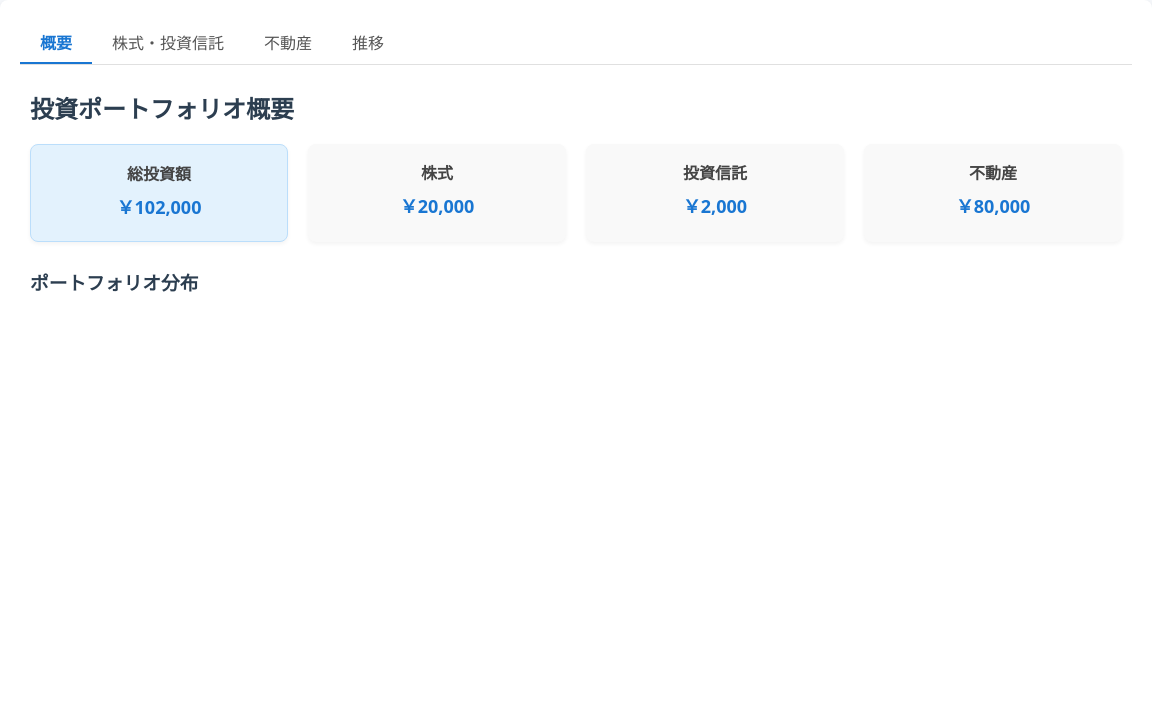
Test: InvestmentView › 株式・投資信託データがある場合に正しく表示される
Note: 「株式・投資信託」タブをクリック
Click the button "株式・投資信託" at coordinates (168, 42), box [92, 20, 244, 64]
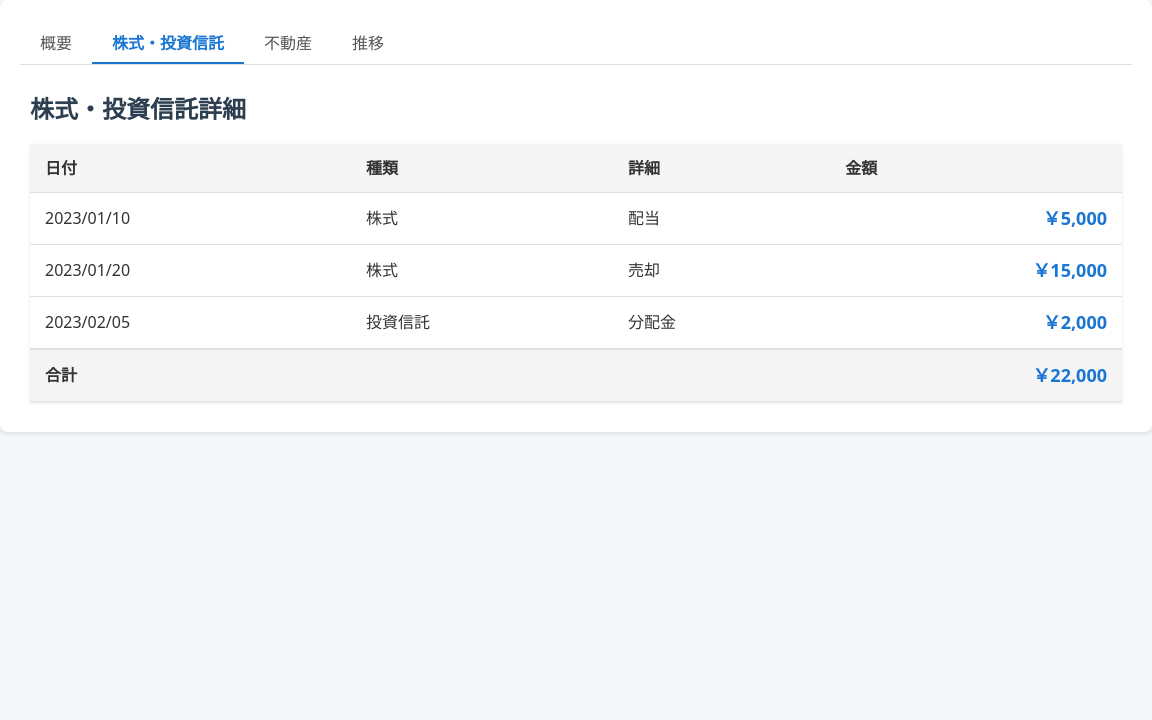
Expected: the heading "株式・投資信託詳細" is shown, [30, 92, 246, 125]
Expected: the column heading "日付" is shown, [30, 144, 351, 192]
Expected: the column heading "種類" is shown, [351, 144, 613, 192]
